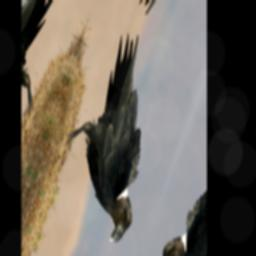Crow: (44, 13, 188, 254)
